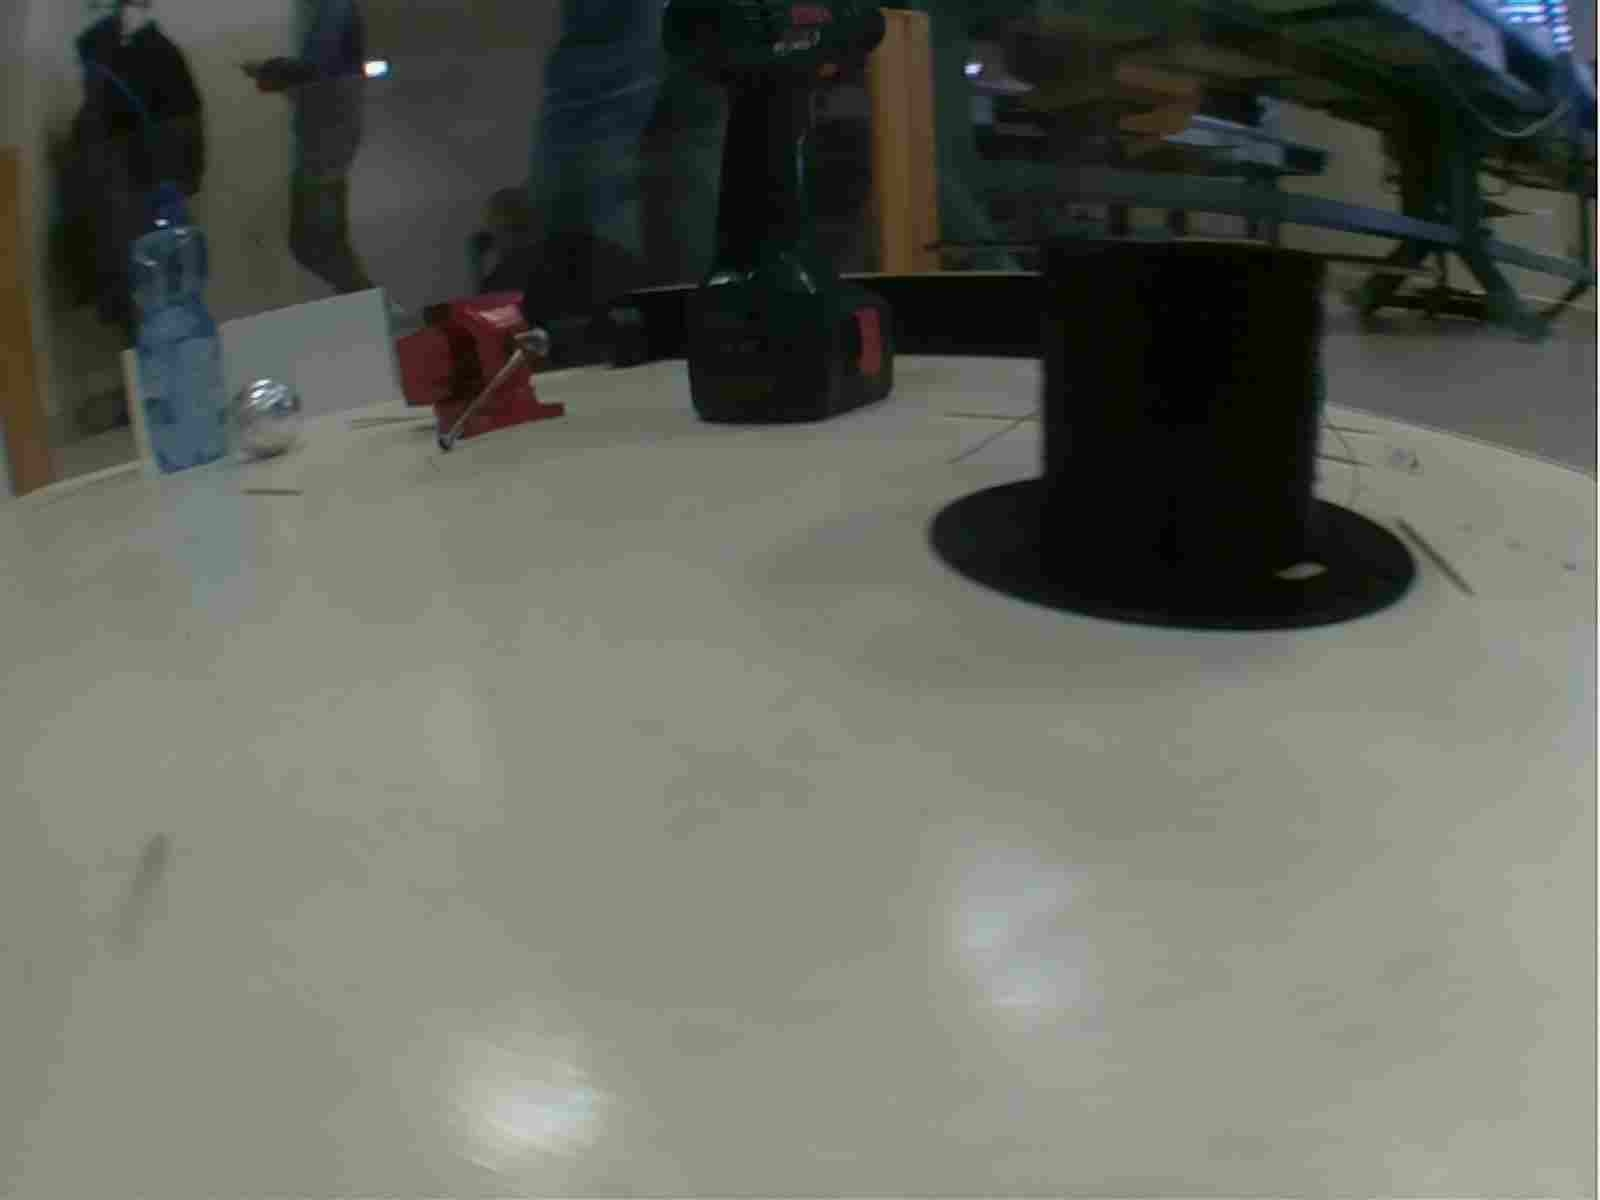bianca: (233, 374, 309, 464)
